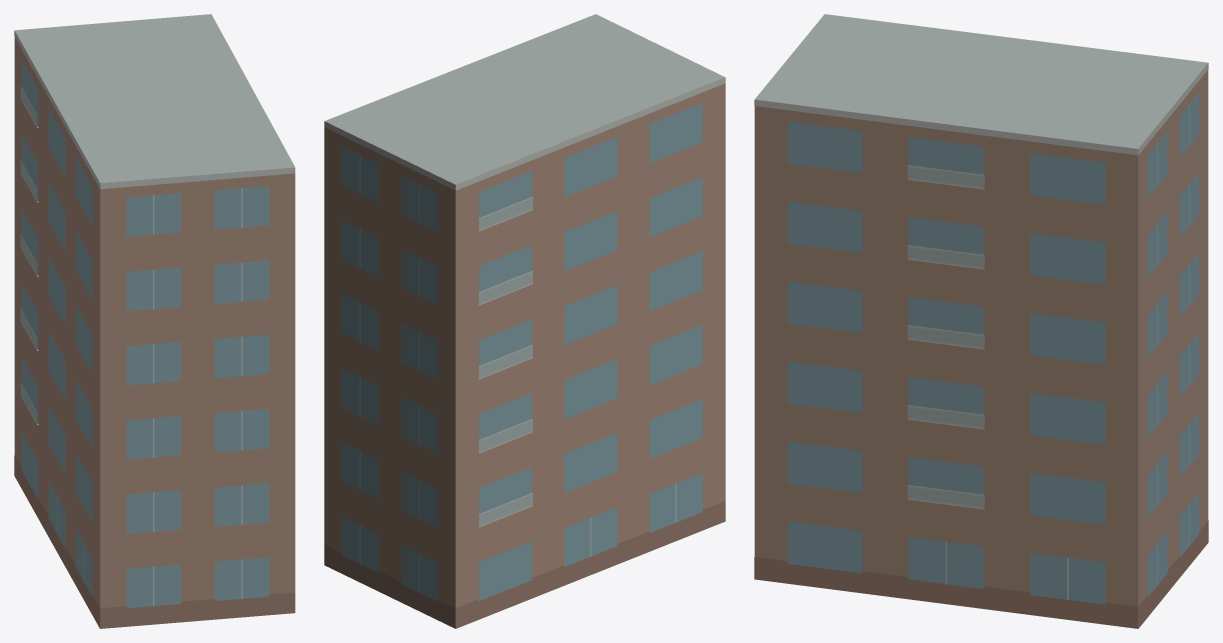
Rendered from survey-upis-32878270.glb.
The picture shows the model from 3 angles, left to right: view 1: azimuth 30°, elevation 25°; view 2: azimuth 150°, elevation 25°; view 3: azimuth 270°, elevation 25°; orthographic projection. The views are drawn at different scales.
Visible parts, largest first — view 1: survey-upis-32878270.tmp; view 2: survey-upis-32878270.tmp; view 3: survey-upis-32878270.tmp.
Boxes of the visible parts, left/top/right/bottom form: survey-upis-32878270.tmp: left=14, top=14, right=295, bottom=628; survey-upis-32878270.tmp: left=324, top=14, right=725, bottom=628; survey-upis-32878270.tmp: left=754, top=14, right=1208, bottom=628.
Size of the model in its own units: 11.05 by 18.3 by 15.7.
